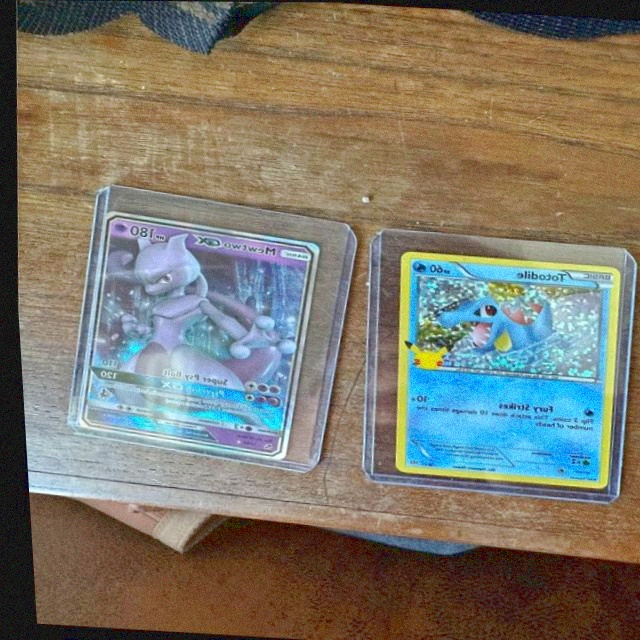card: (72, 210, 318, 460), (389, 250, 617, 488)
